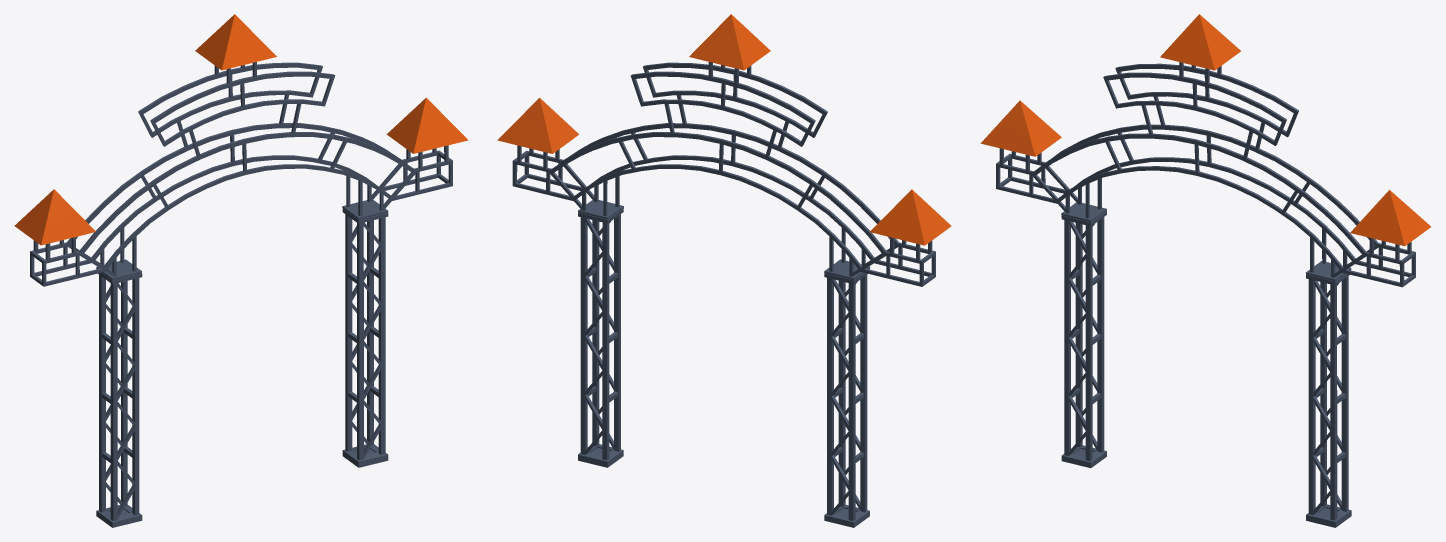
File: SM_Archway_01.fbx
3 views of the same model, side by side, from view 1: azimuth 30°, elevation 25°; view 2: azimuth 150°, elevation 25°; view 3: azimuth 330°, elevation 25° (orthographic).
Visible parts, largest first — view 1: SM_Archway_01; view 2: SM_Archway_01; view 3: SM_Archway_01.
Part boxes in pixels (left/top/right/bottom): SM_Archway_01: left=14, top=14, right=468, bottom=527; SM_Archway_01: left=497, top=14, right=951, bottom=527; SM_Archway_01: left=980, top=14, right=1431, bottom=527.
Bounding box in the file's own units: 614 × 654 × 66.75.
Materials: 1 (1 with a texture image).
